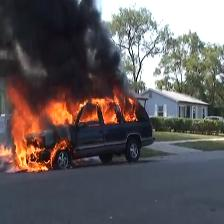fire: (14, 99, 133, 166)
smoke: (6, 4, 117, 93)
